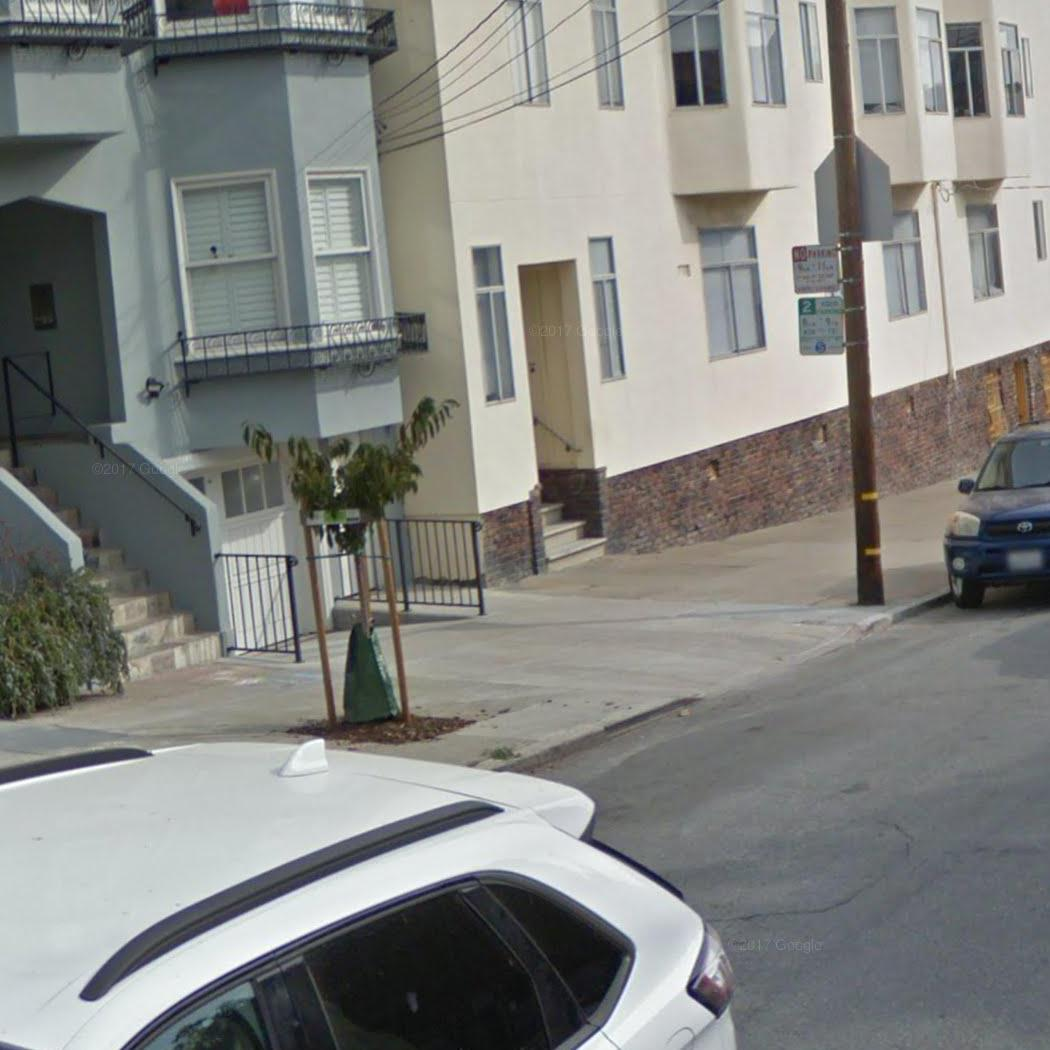2 Hour Parking: (795, 295, 848, 357)
No Parking: (789, 242, 843, 295)
